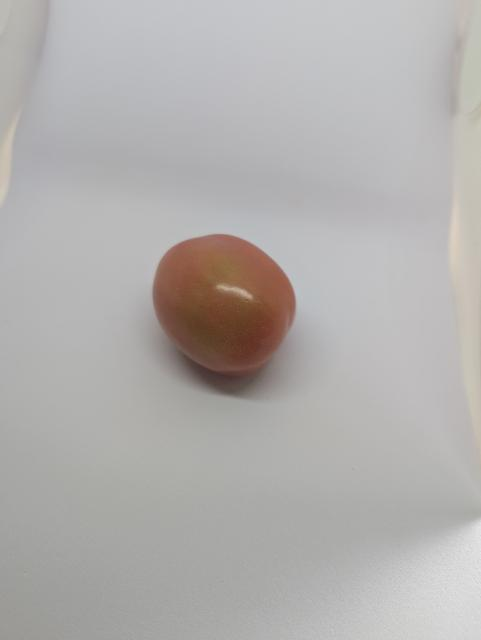turning: (140, 225, 304, 381)
